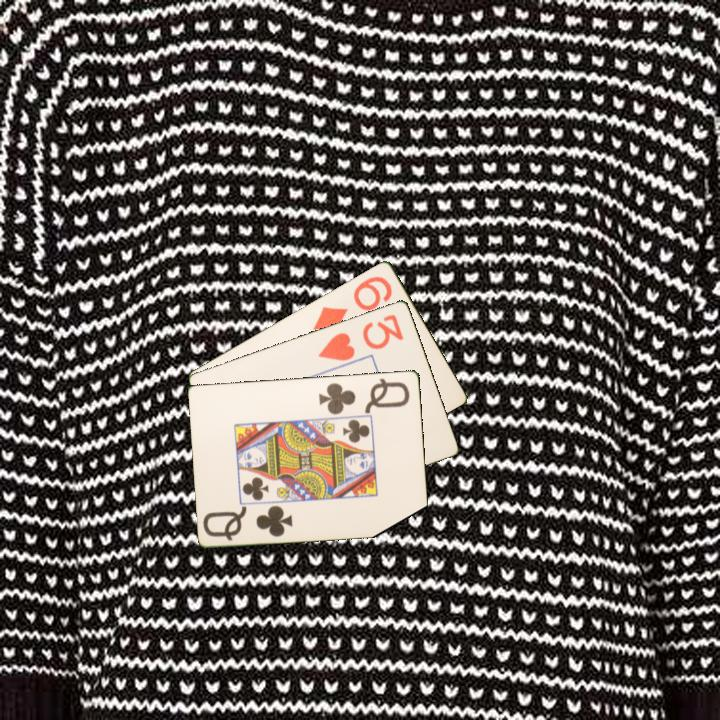3h: (315, 310, 407, 363)
6d: (309, 272, 395, 335)
Qc: (316, 374, 413, 417), (200, 501, 296, 543)
